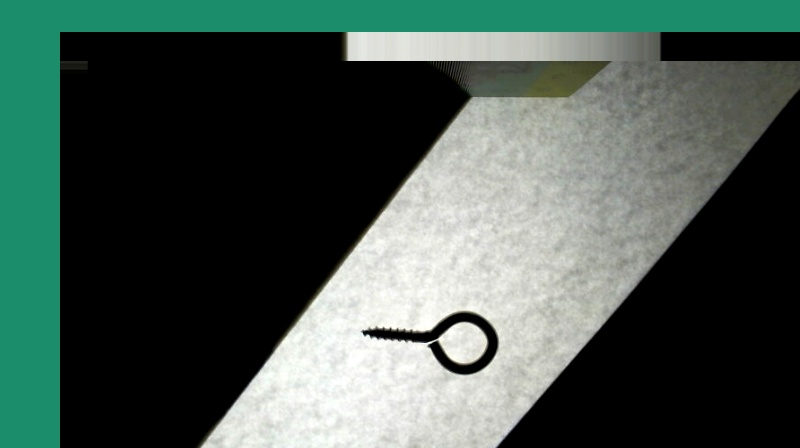O001: (356, 308, 500, 377)
